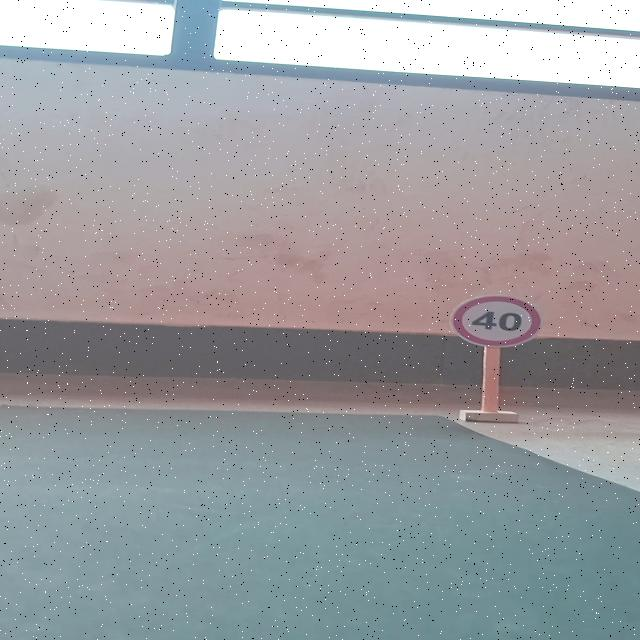Speed40: (446, 291, 548, 351)
